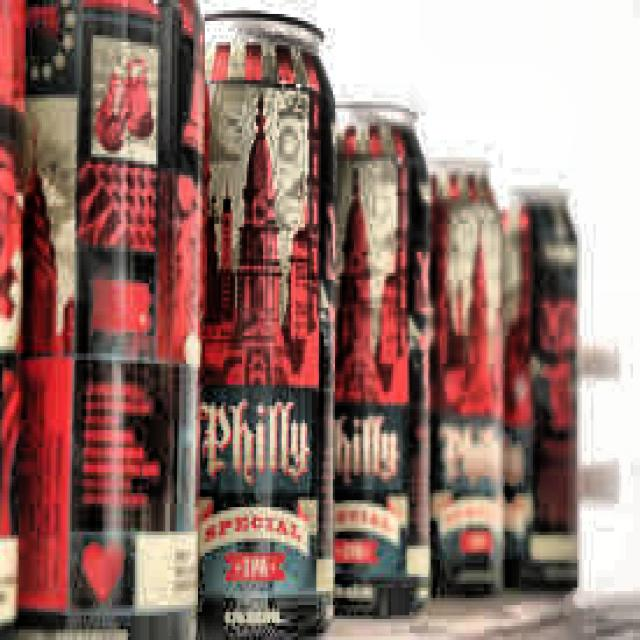can: (0, 0, 200, 640), (198, 1, 337, 640), (327, 92, 436, 619), (418, 150, 512, 604), (496, 184, 584, 598)
